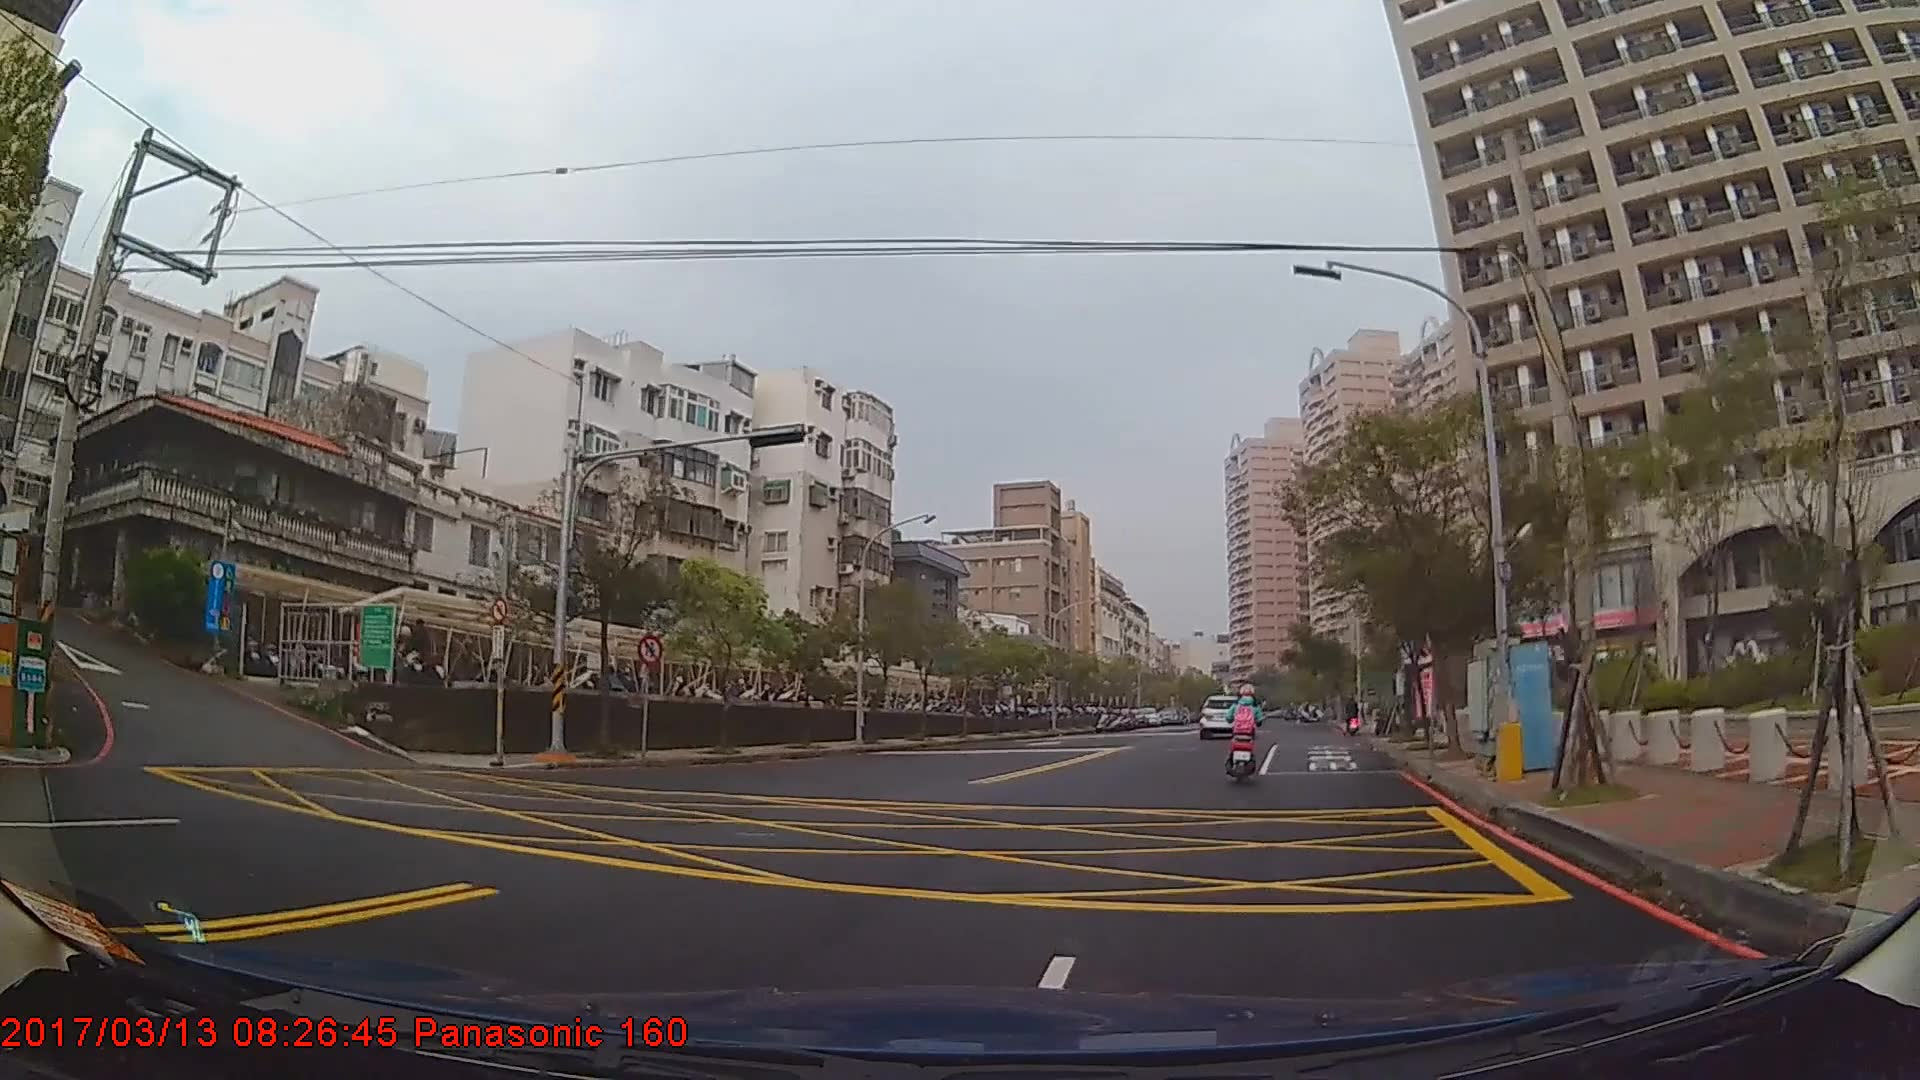rider: (1222, 680, 1268, 782)
vehicle: (1196, 691, 1241, 737)
